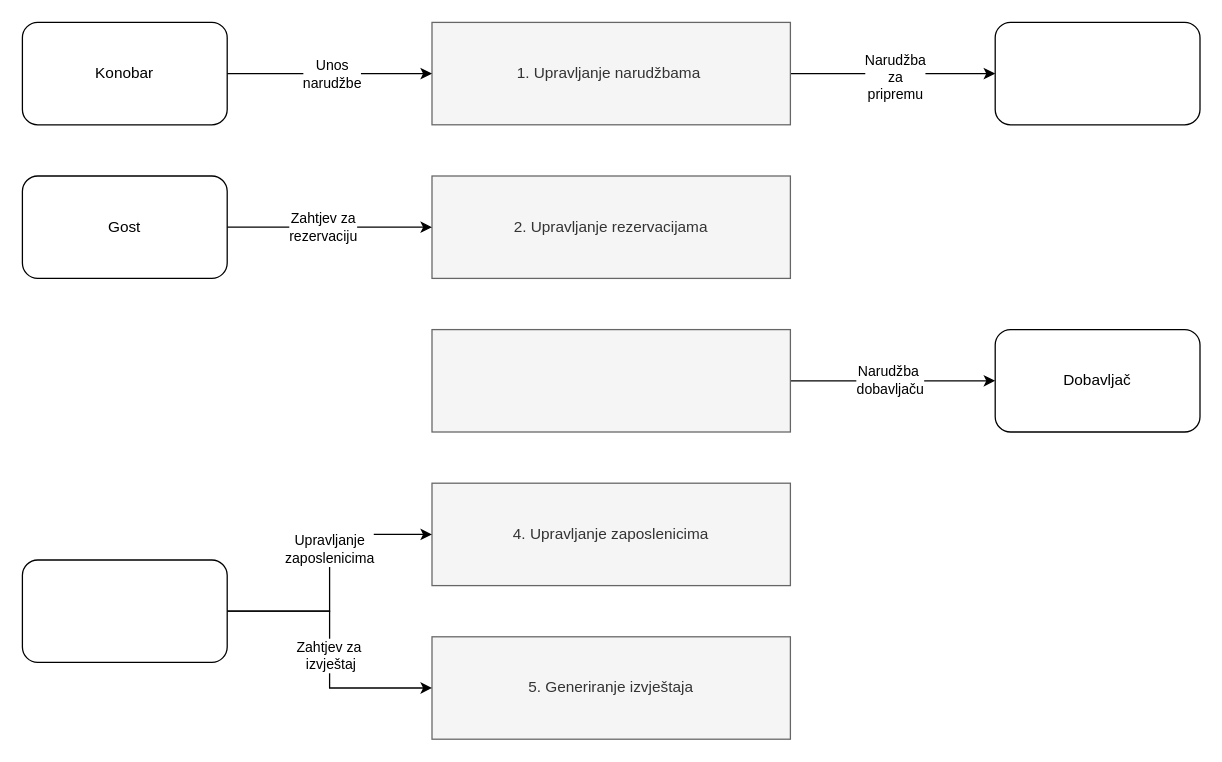
Some shapes in this 1222 by 762 pixel diagram are drawn without their labels. The shapes that lost their labels are listed below. From the top down, each one's centre as x and y in pixels, then its label:
the point at 1097,73: Kuhinjsko osoblje
the point at 610,380: 3. Upravljanje zalihama i nabavom
the point at 124,610: Vlasnik / Menadžer
